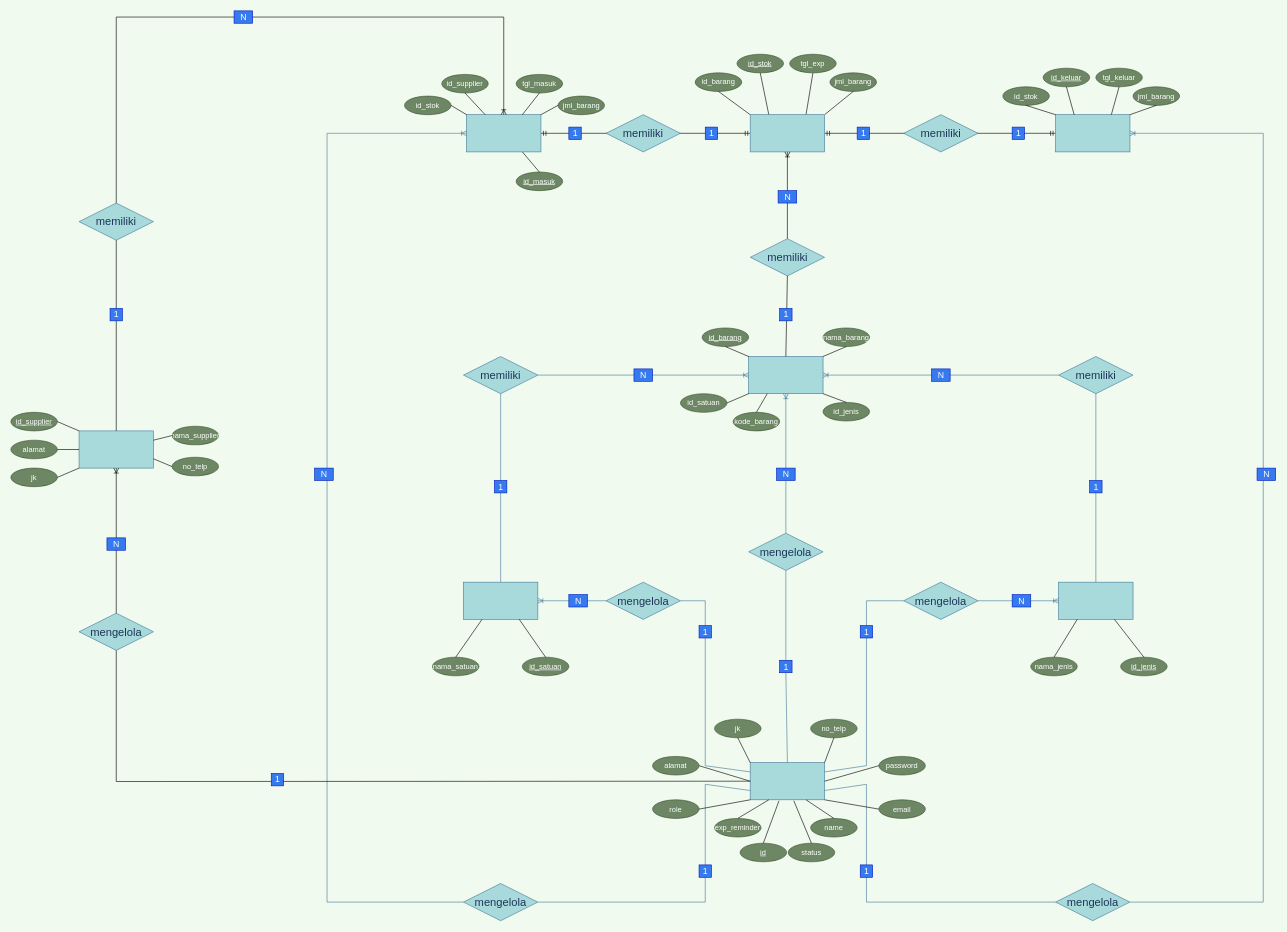
The diagram is 1287 pixels wide and 932 high, and some of its shapes have lost their labels. Here are the shapes that lost their labels. From the top down, the centre of each, then its label:
[503,133]: barang_masuk
[787,133]: stok_barang
[1092,133]: barang_keluar
[785,375]: data_barang
[115,449]: supplier
[500,600]: satuan_barang
[1095,600]: jenis_barang
[787,781]: users
